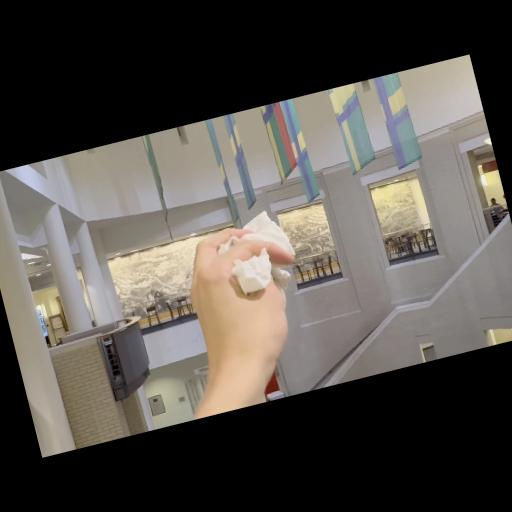napkin: (210, 205, 302, 301)
